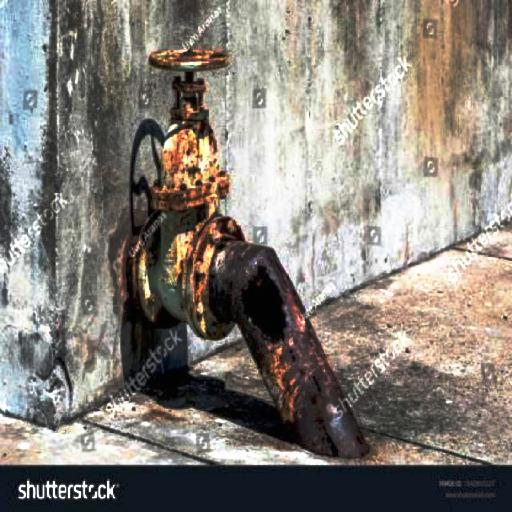corrosion: (228, 249, 367, 457)
